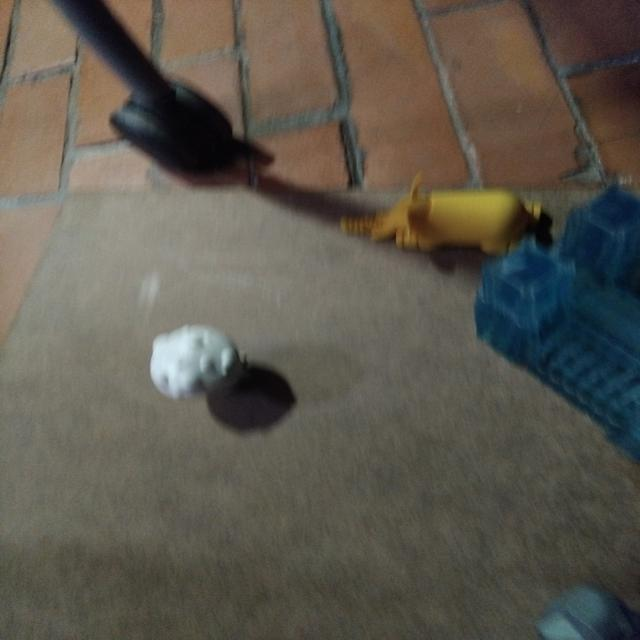Hongo: (138, 322, 252, 404)
